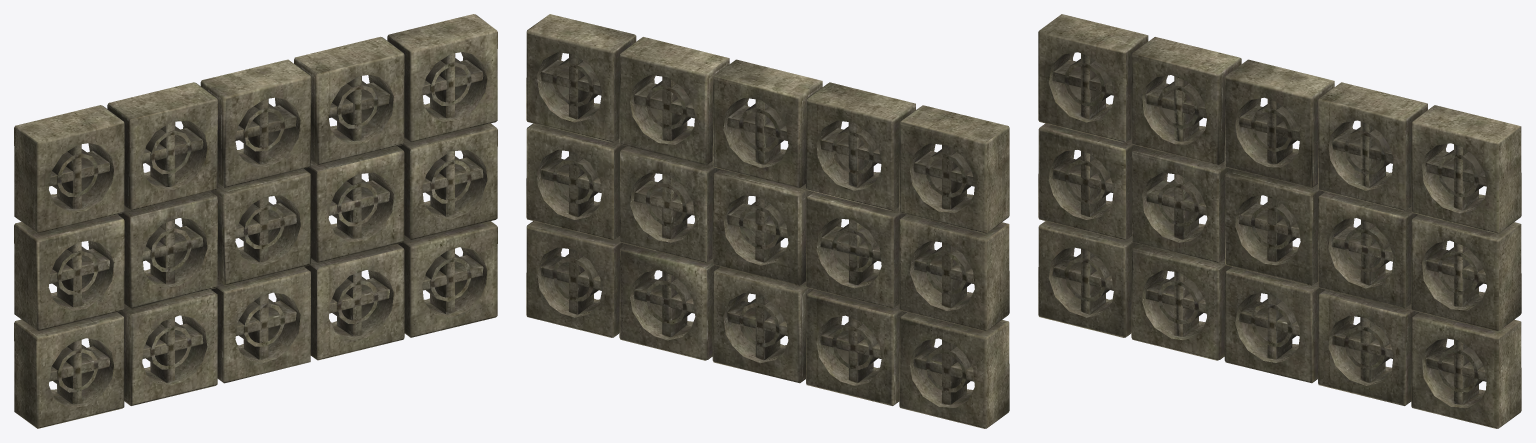
Rendered from vent_block_panel.glb.
The picture shows the model from 3 angles, left to right: view 1: azimuth 30°, elevation 25°; view 2: azimuth 150°, elevation 25°; view 3: azimuth 330°, elevation 25°; orthographic projection.
Visible parts, largest first — view 1: vent_block_panel; view 2: vent_block_panel; view 3: vent_block_panel.
Boxes of the visible parts, <box> form: vent_block_panel: <box>14,14,497,428</box>; vent_block_panel: <box>526,14,1009,428</box>; vent_block_panel: <box>1038,14,1521,428</box>.
Bounding box in the file's own units: 0.9892 × 0.59 × 0.09.
1 material, 1 textured.
